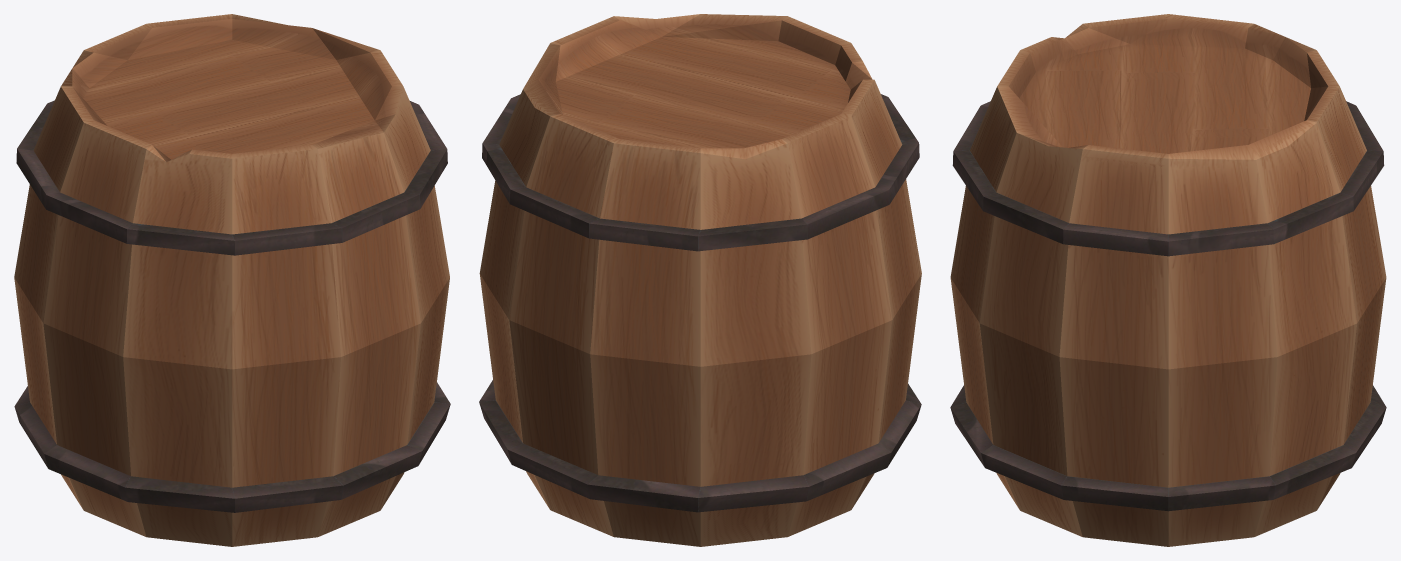
Rendered from Barrel.fbx.
3 renders of one model, left to right at view 1: azimuth 30°, elevation 25°; view 2: azimuth 150°, elevation 25°; view 3: azimuth 270°, elevation 25°, orthographic.
Visible parts, largest first — view 1: Barrel; view 2: Barrel; view 3: Barrel.
Part boxes in pixels (<box>): Barrel: <box>14,14,450,546</box>; Barrel: <box>479,14,921,546</box>; Barrel: <box>950,14,1386,546</box>.
Size of the model in its own units: 51.03 by 50 by 50.93.
